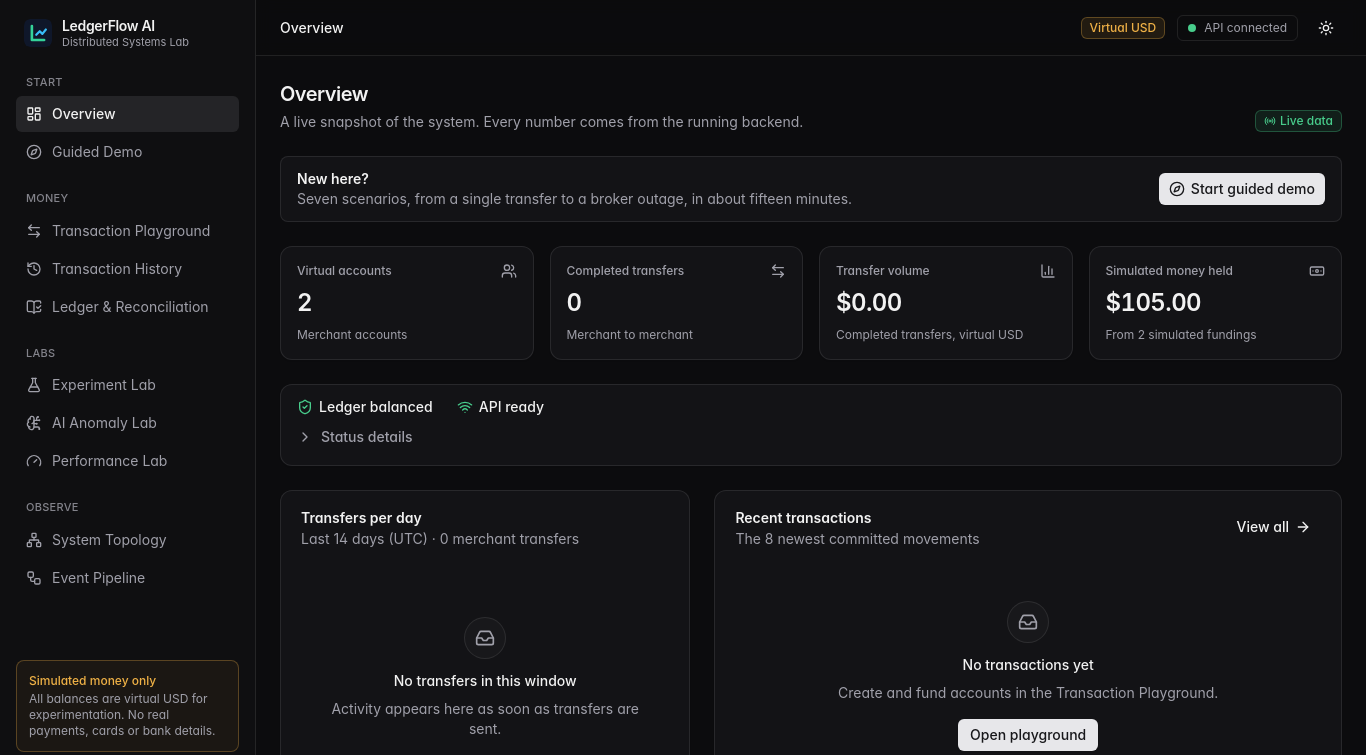
Test: application navigation › navigates between pages from the sidebar
Click the link "Transaction Playground" at (118, 230), box [26, 222, 210, 239]
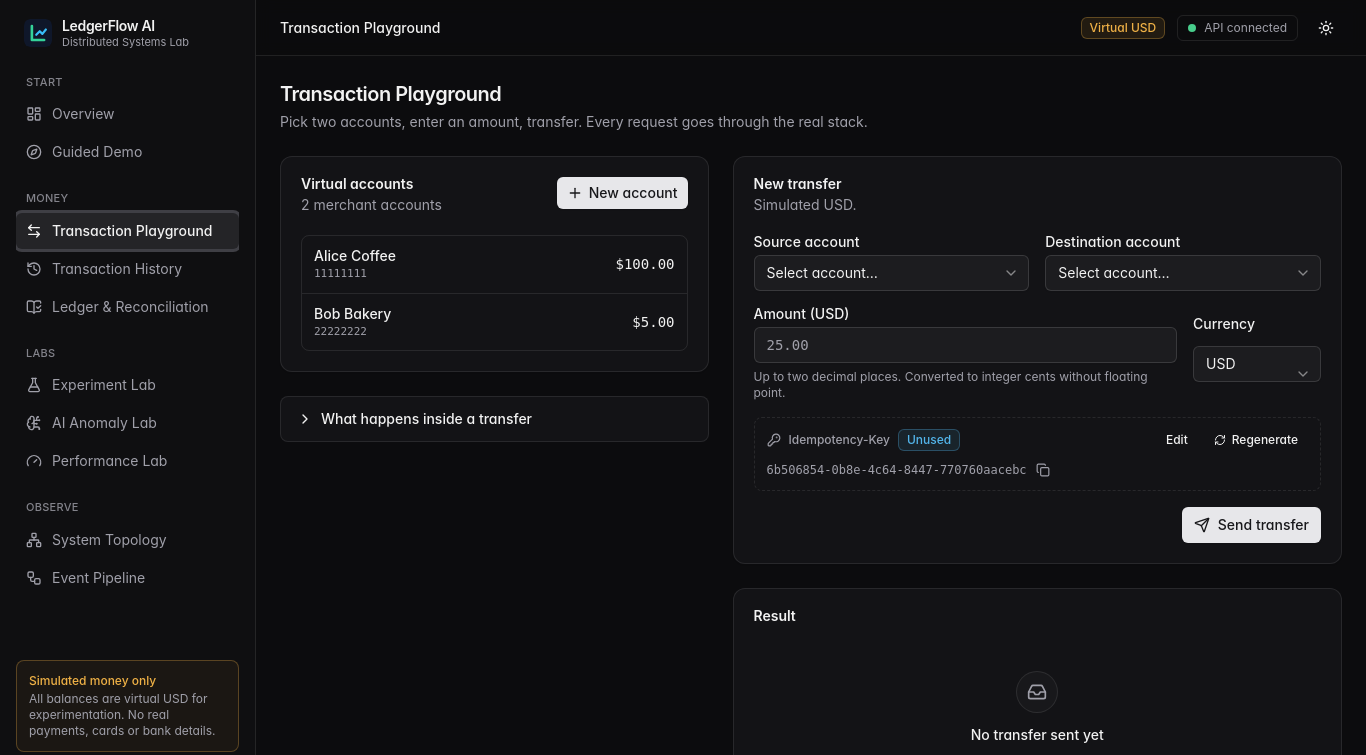
Now the heading "Transaction Playground" is shown, box [280, 82, 501, 106]
Click the link "Ledger & Reconciliation" at (117, 306), box [26, 298, 209, 315]
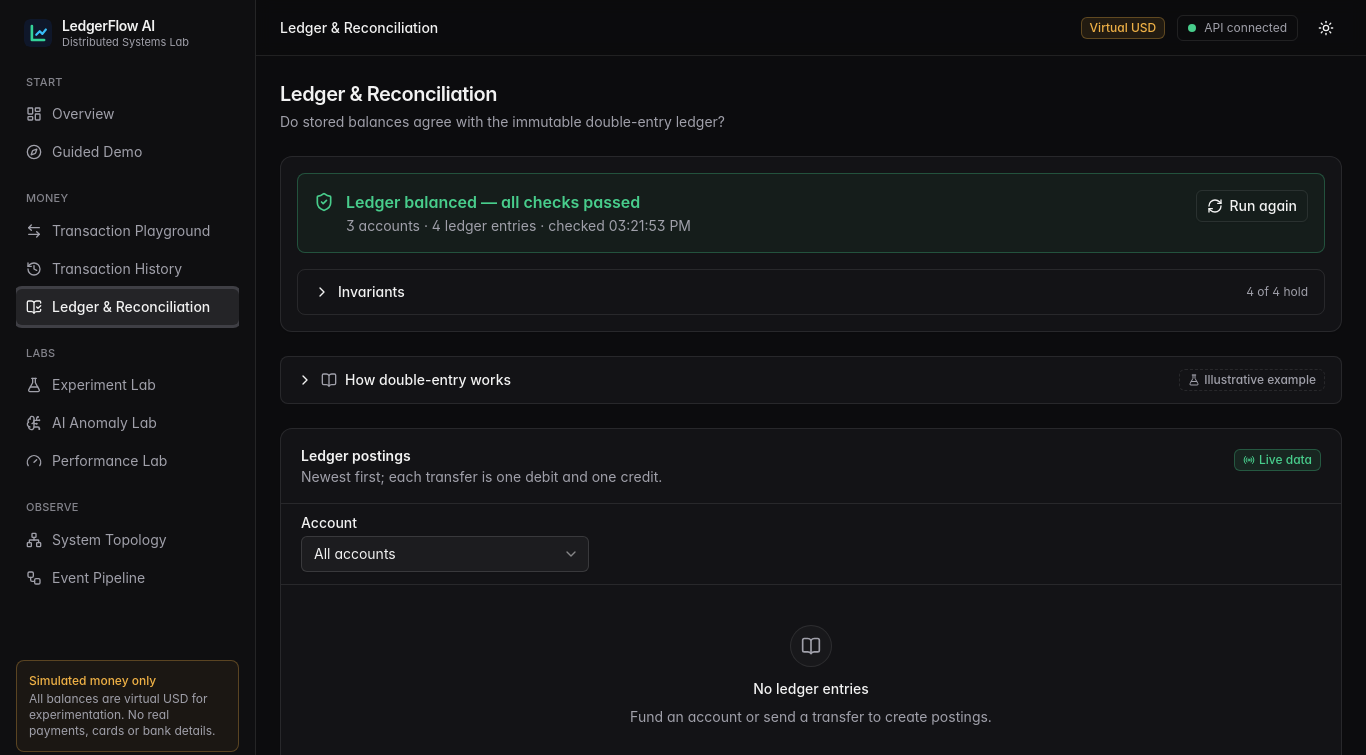
Now the heading "Ledger & Reconciliation" is shown, box [280, 82, 497, 106]
Click the link "Performance Lab" at (97, 461), box [26, 452, 168, 469]
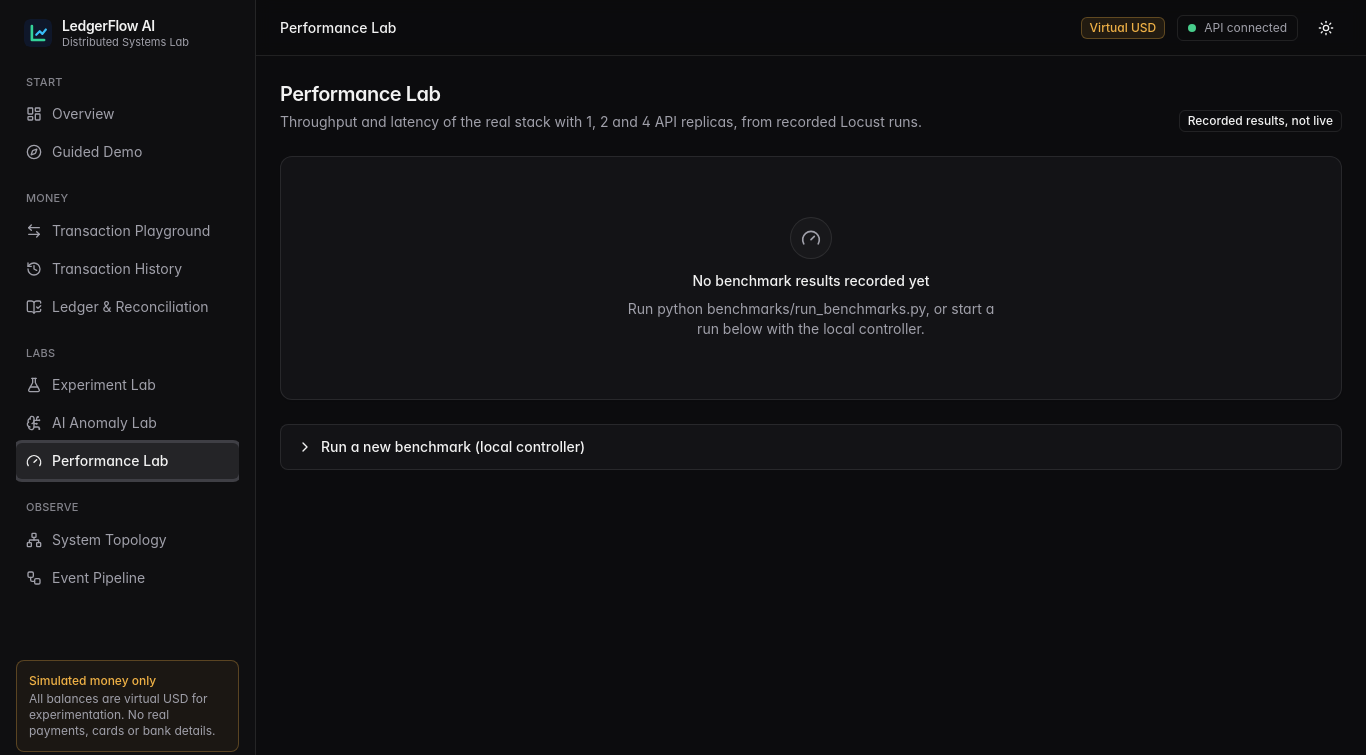
Now the heading "Performance Lab" is shown, box [280, 82, 440, 106]
Now the text "Recorded results, not live" is shown, box [1179, 110, 1342, 132]
Now the text "No benchmark results recorded yet" is shown, box [692, 271, 929, 291]
Click the link "System Topology" at (96, 539), box [26, 531, 167, 548]
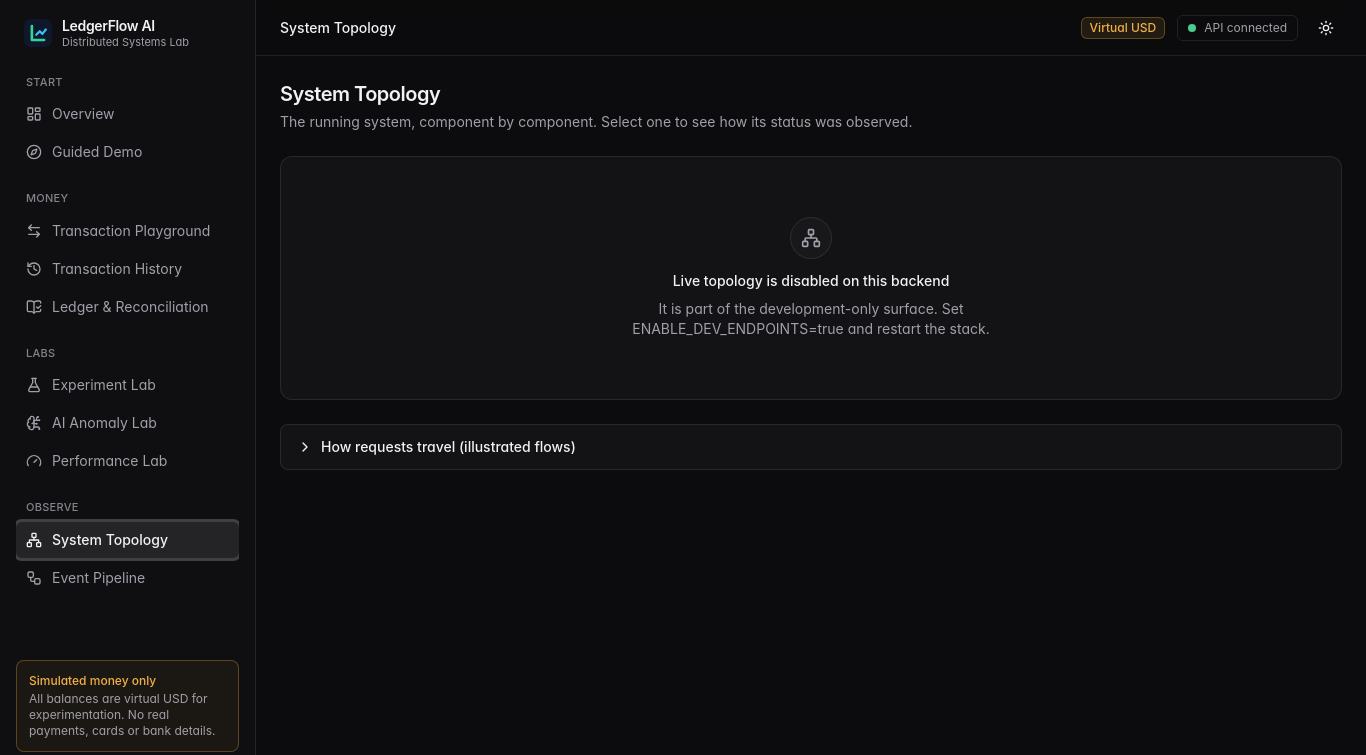
Now the heading "System Topology" is shown, box [280, 82, 440, 106]
